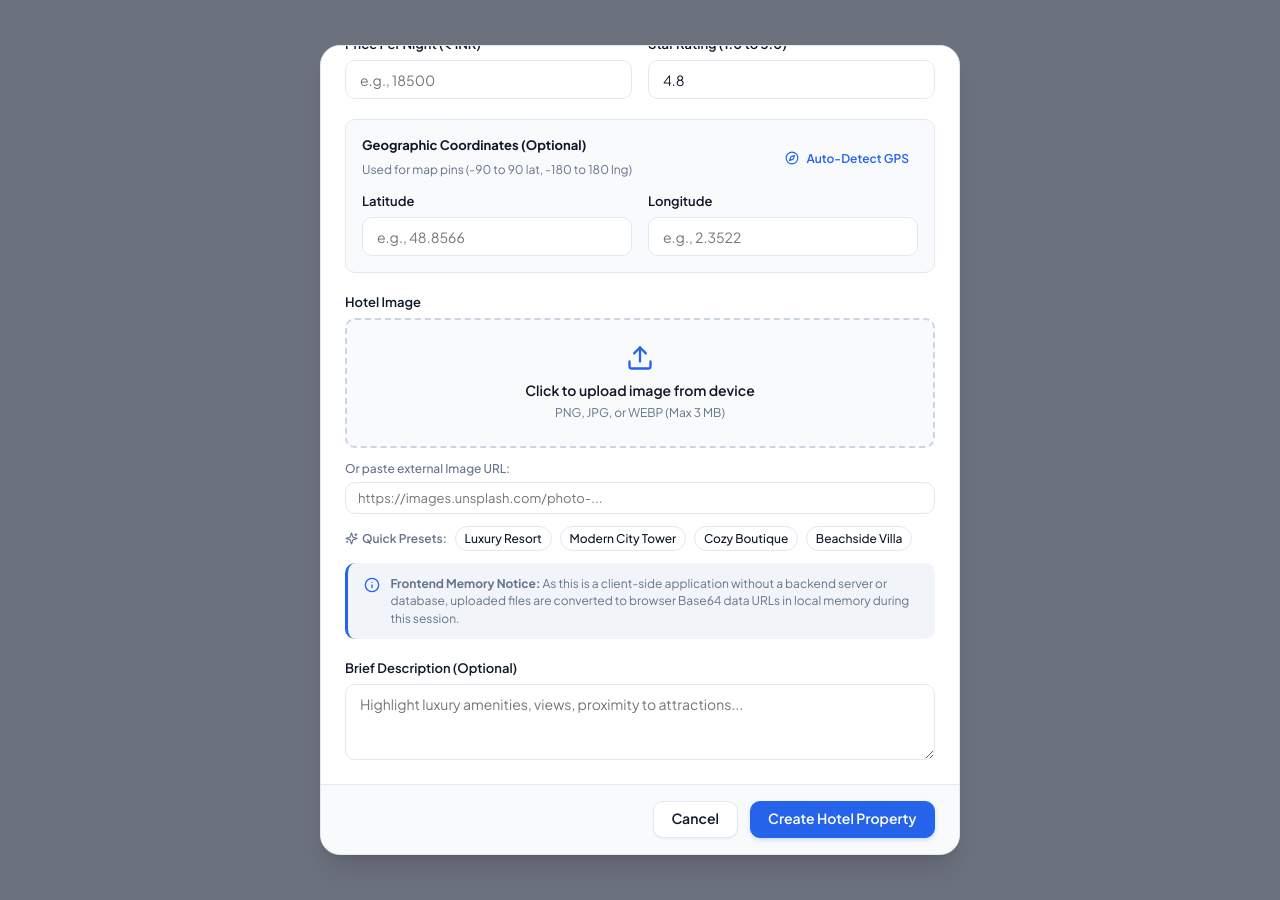
Test: HotelForm Component › validates required fields and shows error messages when submitted empty
(page scrolled)
Click the button "Create Hotel Property": (842, 819) [750,800,935,838]
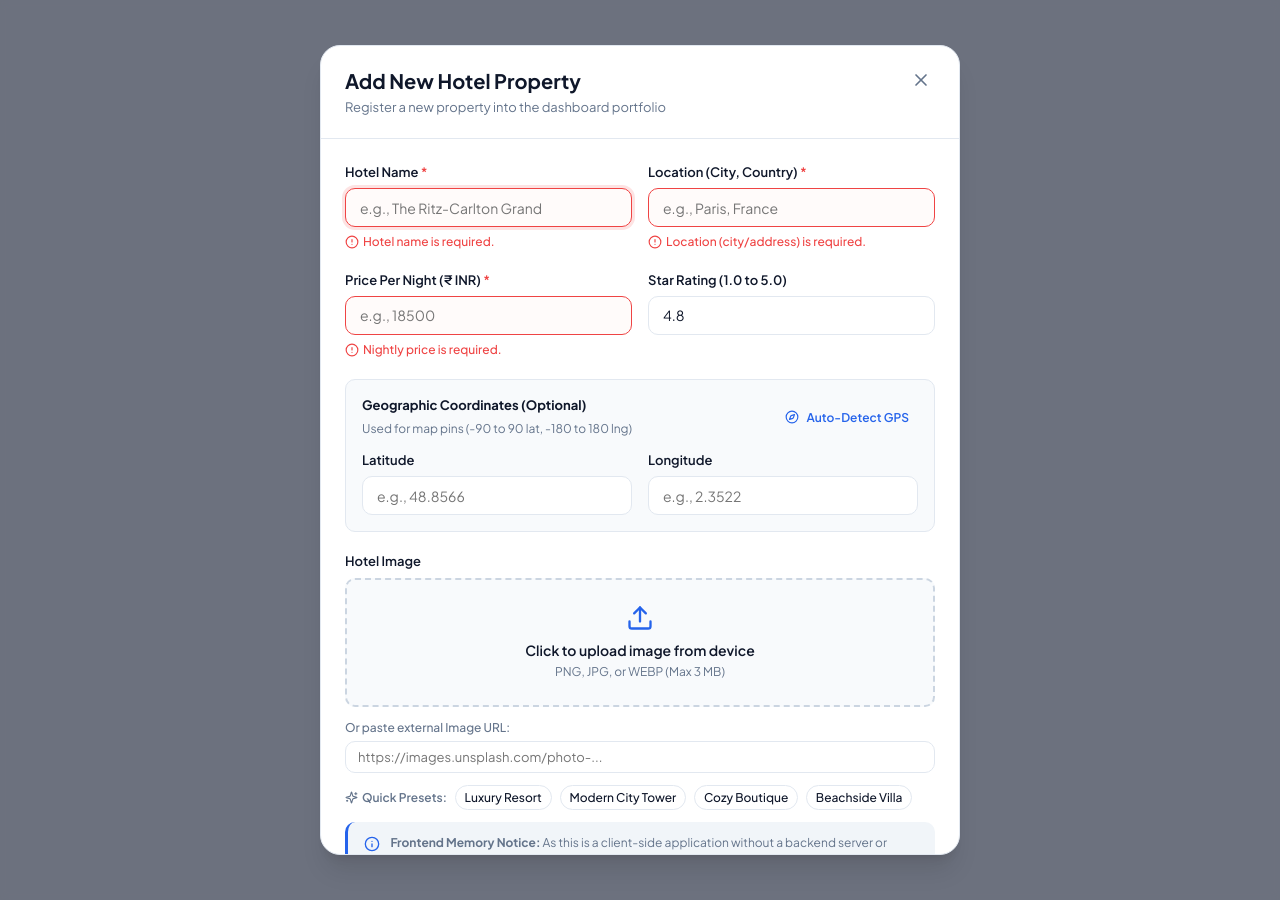
Check: the text "Hotel name is required." is shown, box [345,234,494,249]
Check: the text "Location (city/address) is required." is shown, box [648,234,866,249]
Check: the text "Nightly price is required." is shown, box [345,342,502,357]
